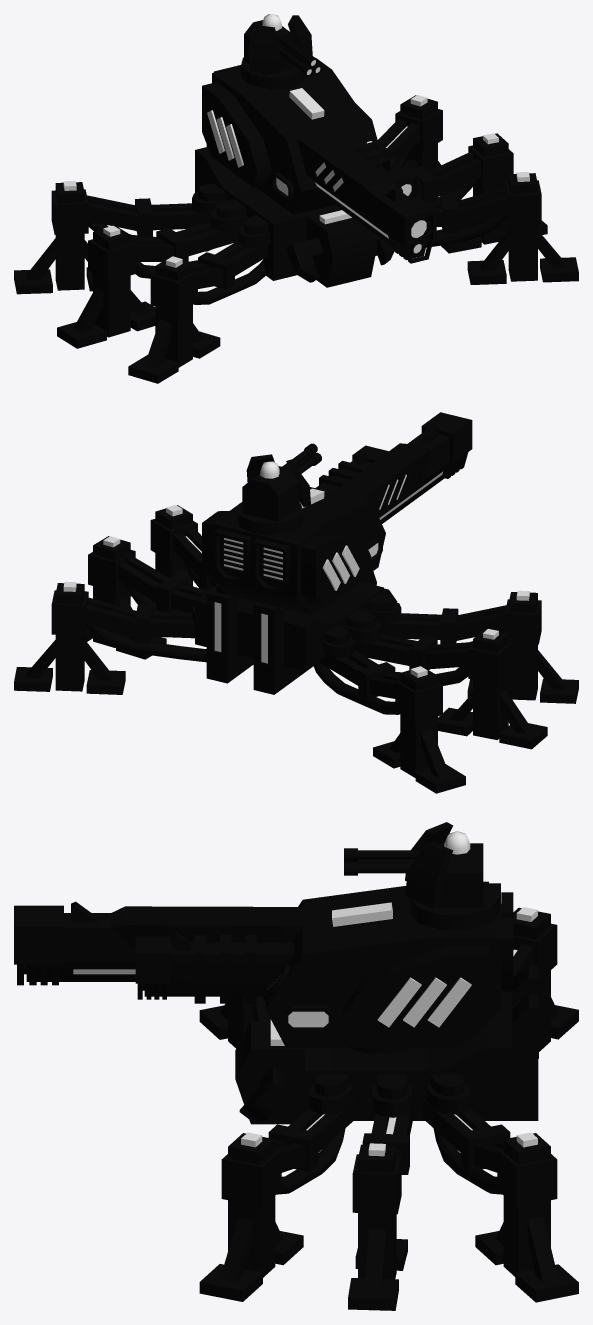
Rendered from БоссЛазер (2).fbx.
3 renders of one model, top to bottom at view 1: azimuth 30°, elevation 25°; view 2: azimuth 150°, elevation 25°; view 3: azimuth 270°, elevation 25°, orthographic. The views are drawn at different scales.
Parts seen in each view (by area): view 1: Legs, Head, Куб.028, Turret, lamps, lamps.001, ЦилиндTurretр.009; view 2: Legs, Head, Куб.028, Turret, lamps, lamps.001, ЦилиндTurretр.009; view 3: Legs, Head, Куб.028, Turret, lamps, ЦилиндTurretр.009, lamps.001.
Part boxes in pixels (x1,y1,x2,y2): Legs: [14, 95, 578, 383]; Head: [212, 65, 436, 263]; Куб.028: [202, 58, 354, 186]; Turret: [244, 15, 322, 77]; lamps: [207, 88, 426, 253]; lamps.001: [63, 95, 529, 267]; ЦилиндTurretр.009: [240, 57, 305, 89]; Legs: [14, 505, 578, 793]; Head: [212, 412, 472, 615]; Куб.028: [202, 511, 371, 607]; Turret: [242, 443, 321, 521]; lamps: [224, 471, 443, 590]; lamps.001: [63, 504, 529, 677]; ЦилиндTurretр.009: [237, 503, 303, 535]; Legs: [199, 907, 578, 1310]; Head: [14, 883, 513, 1047]; Куб.028: [342, 881, 488, 1040]; Turret: [344, 822, 483, 908]; lamps: [73, 902, 471, 1027]; ЦилиндTurretр.009: [410, 883, 499, 929]; lamps.001: [241, 907, 537, 1156].
Bounding box in the file's own units: 8.57 × 6.67 × 4.25.
